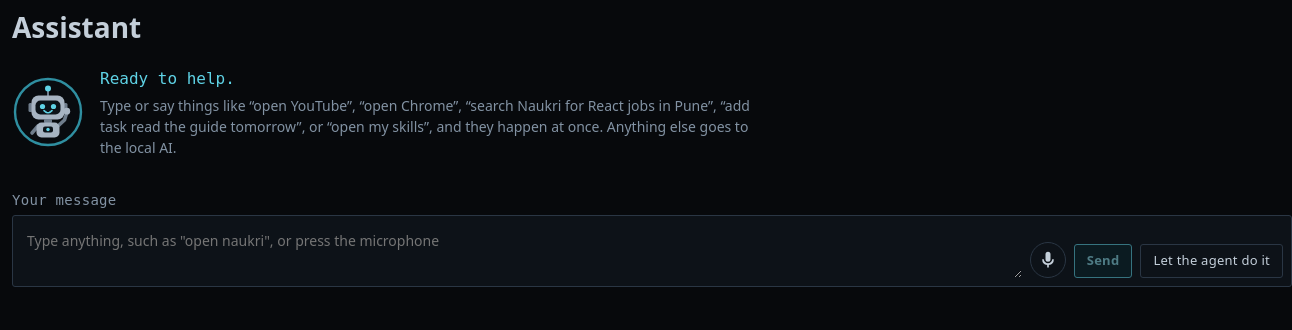
Test: the microphone in the chat bar › the stop button stops listening and ignores anything heard late
The width and height of the screenshot is (1292, 330).
Click the button named "Speak a message or command": x=1048, y=260 [1030,242,1066,278]
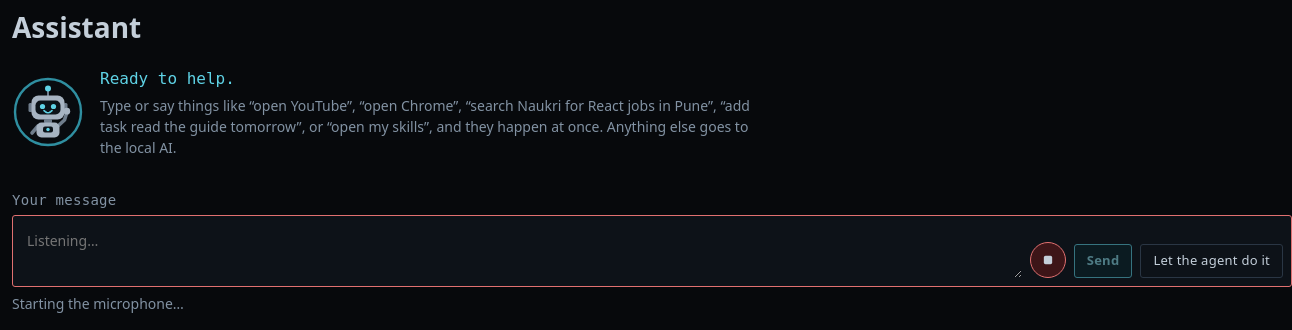
Click the button named "Stop listening": x=1048, y=260 [1030,242,1066,278]
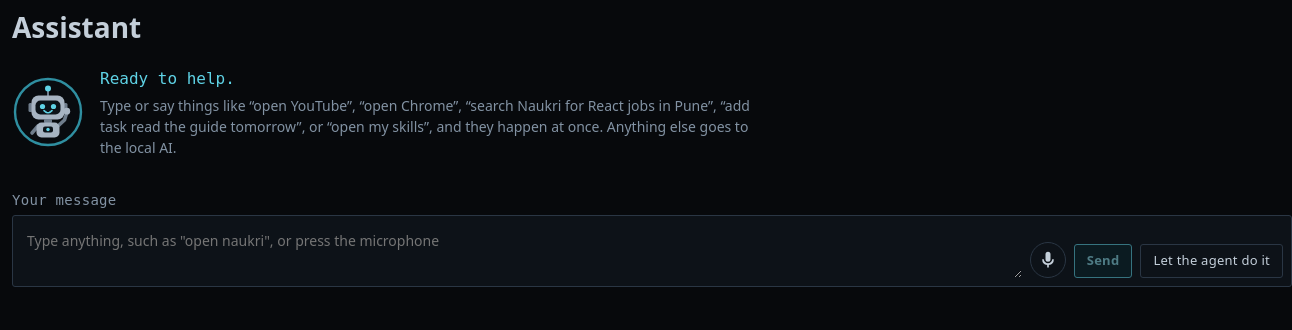
Expected: the button named "Speak a message or command" is shown, [1030,242,1066,278]
